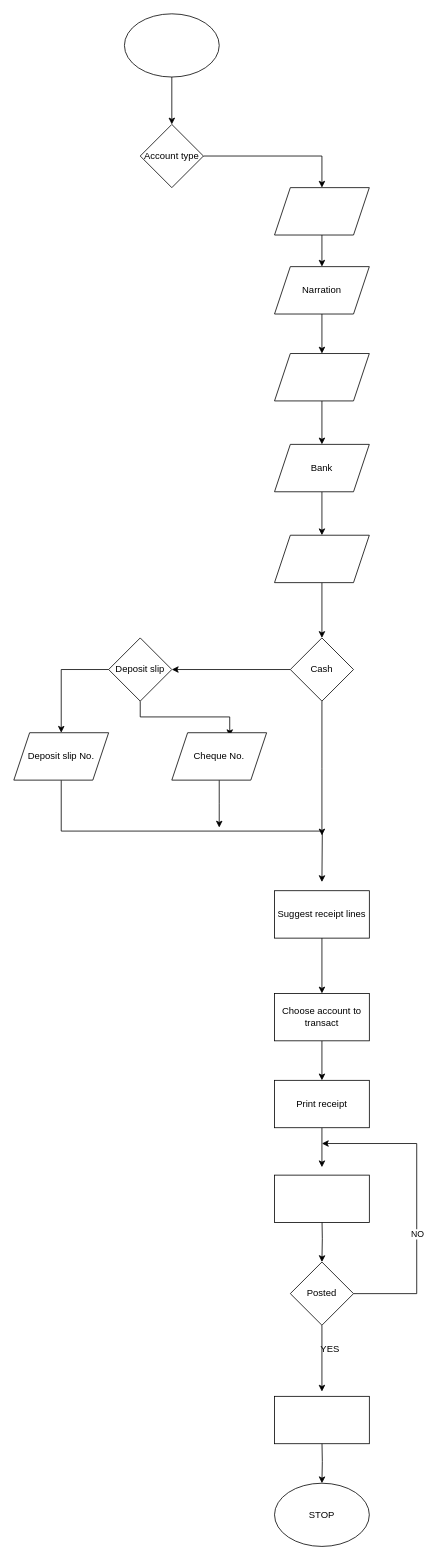
This 438x1560 diagram has some shape labels left out. Here are the shapes that lost their labels. From the top down, the centre of each, then its label:
At pixel 171 45: "START".
At pixel 321 211: "Number".
At pixel 321 377: "Amount".
At pixel 321 558: "Payment mode".
At pixel 321 1198: "Post".
At pixel 321 1420: "Send notification to member".
